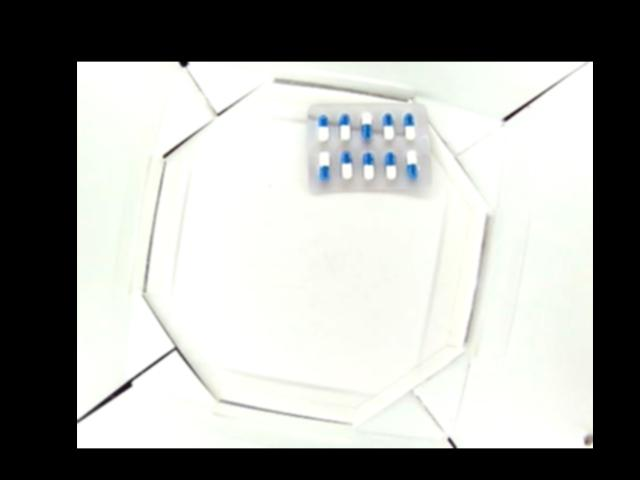Medicine: (304, 102, 430, 196)
